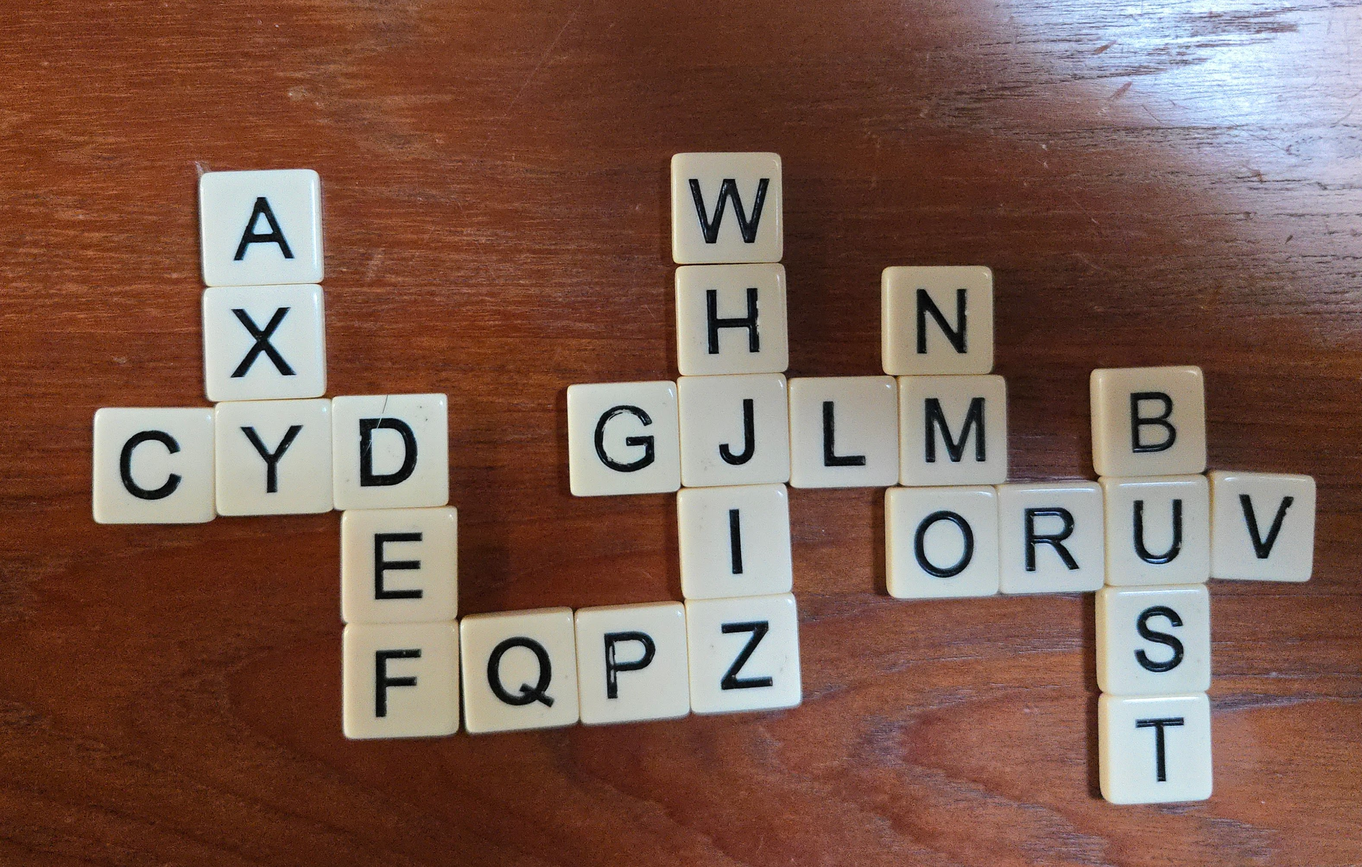Tile: (456, 604, 580, 738), (194, 170, 327, 286), (90, 406, 215, 527), (201, 283, 326, 403), (213, 396, 334, 519), (681, 594, 804, 714), (564, 378, 685, 499), (575, 602, 690, 728), (339, 507, 457, 627), (332, 393, 448, 513), (1090, 364, 1209, 479), (342, 622, 457, 741), (668, 150, 785, 265), (1095, 692, 1214, 805), (1095, 583, 1212, 697), (676, 483, 790, 600), (879, 263, 995, 377), (884, 484, 998, 600), (676, 372, 787, 491), (996, 481, 1104, 601), (896, 374, 1007, 488), (1209, 468, 1317, 585), (676, 264, 787, 373), (1099, 475, 1208, 586), (787, 376, 893, 490)
